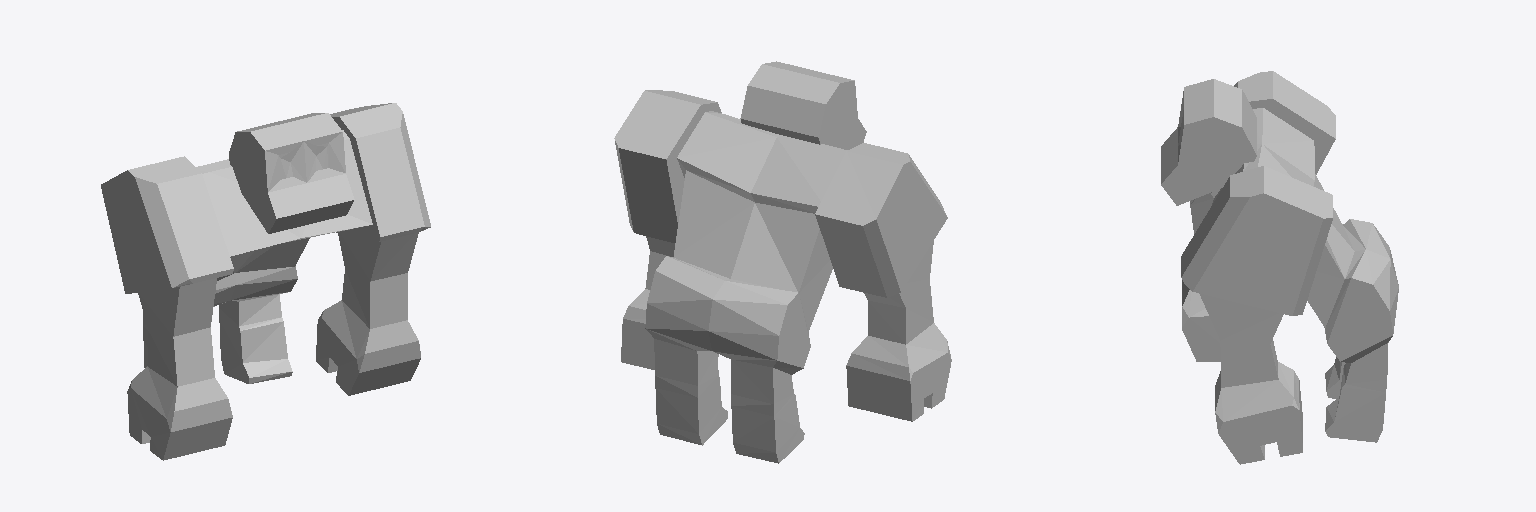
File: kong_000006.obj
3 views of the same model, side by side, from view 1: azimuth 30°, elevation 25°; view 2: azimuth 150°, elevation 25°; view 3: azimuth 270°, elevation 25° (orthographic).
Visible parts, largest first — view 1: Cube; view 2: Cube; view 3: Cube.
Part boxes in pixels (x1,y1,x2,y2): Cube: (101, 103, 430, 460); Cube: (614, 61, 951, 463); Cube: (1161, 71, 1398, 464).
Bounding box in the file's own units: 5.84 × 6.52 × 4.45.